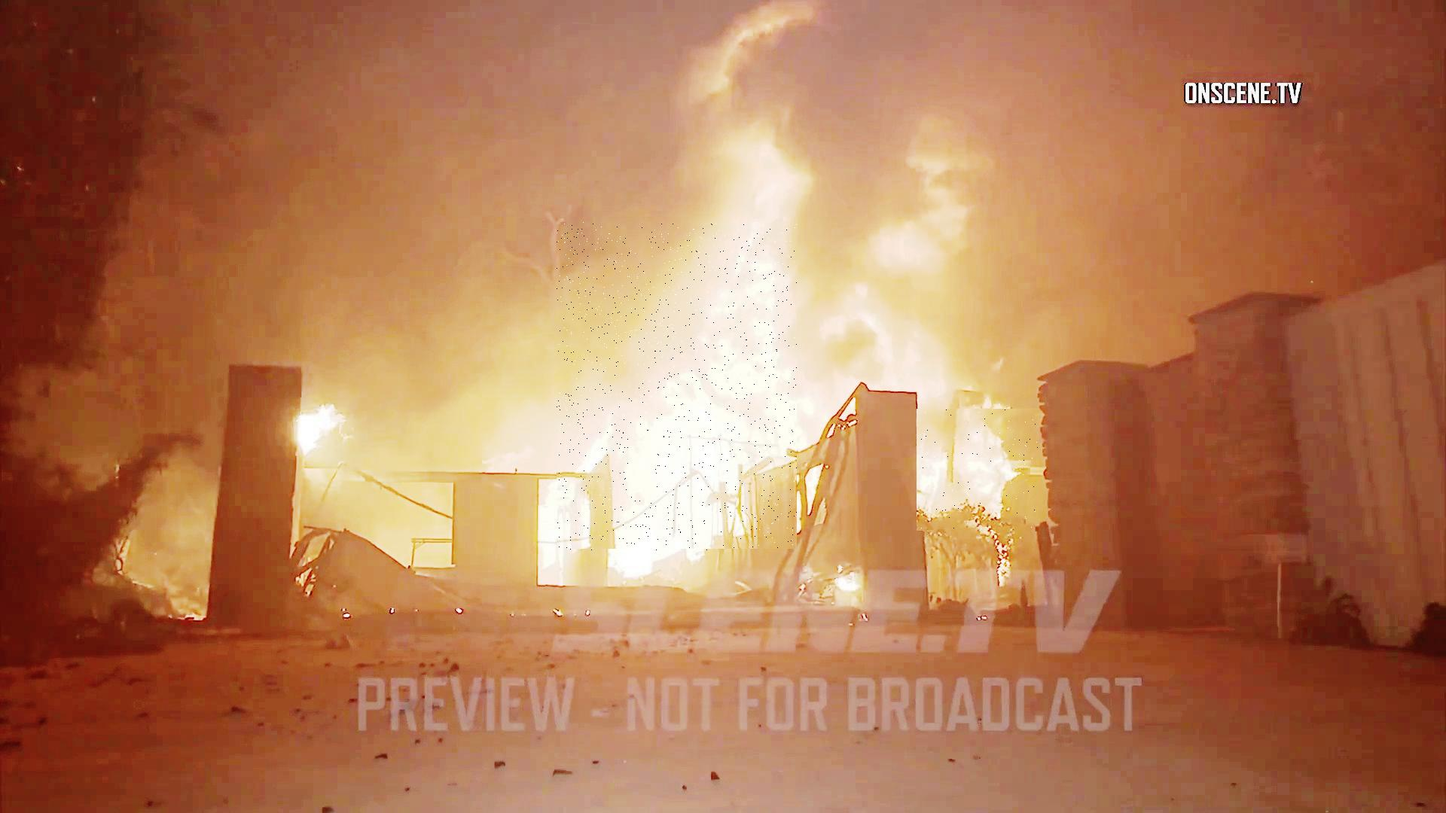fire: (557, 223, 797, 551), (917, 409, 1039, 532)
